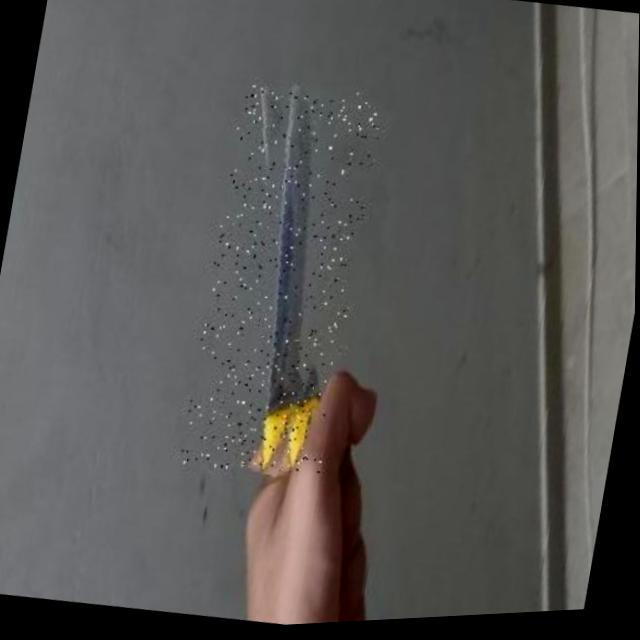knife: (179, 77, 385, 488)
